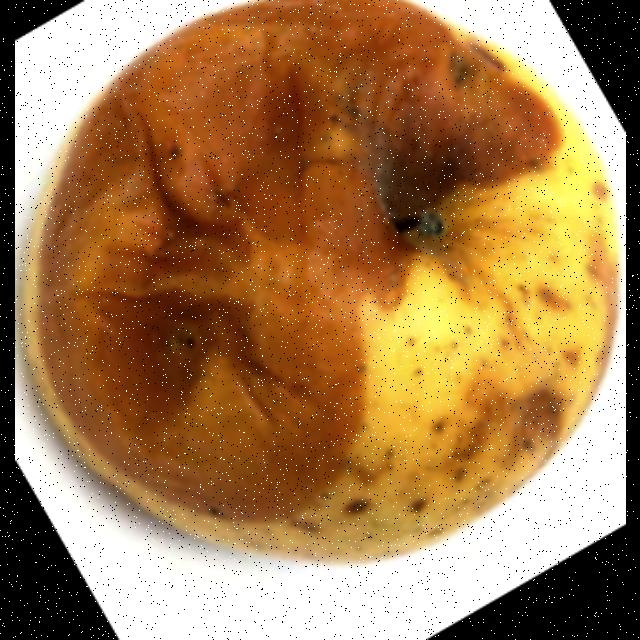Apel Tidak Segar: (15, 1, 619, 584)
